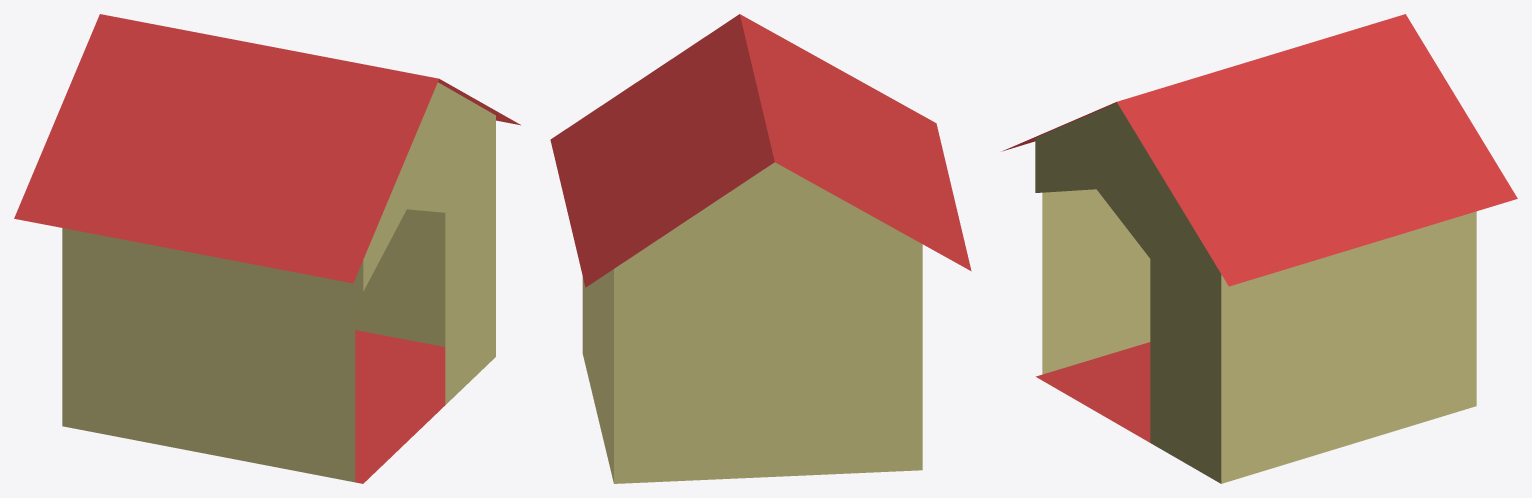
3 renders of one model, left to right at view 1: azimuth 30°, elevation 25°; view 2: azimuth 150°, elevation 25°; view 3: azimuth 270°, elevation 25°, orthographic. The views are drawn at different scales.
Bounding box in the file's own units: 15.1 × 14.87 × 10.46.
